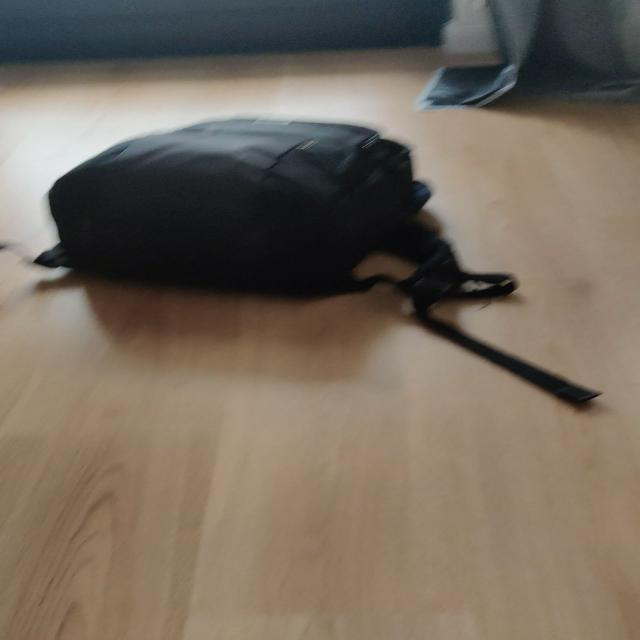backpack: (23, 112, 451, 298)
